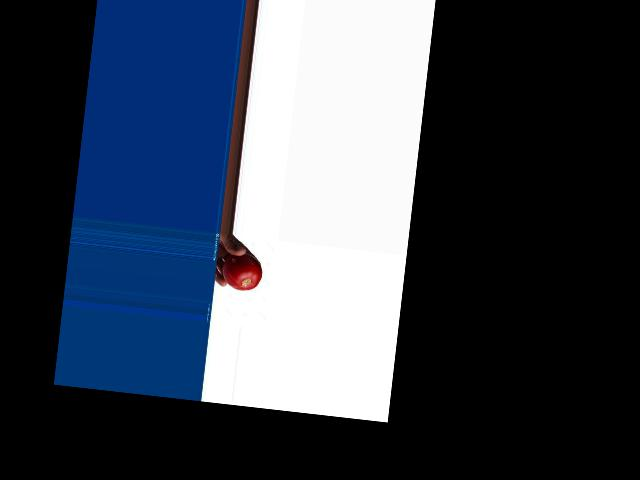tomato: (220, 250, 263, 292)
